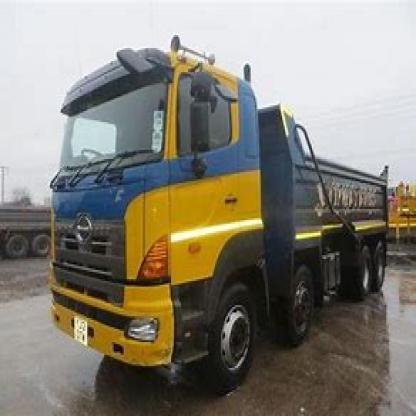dump_truck: (39, 28, 403, 390)
